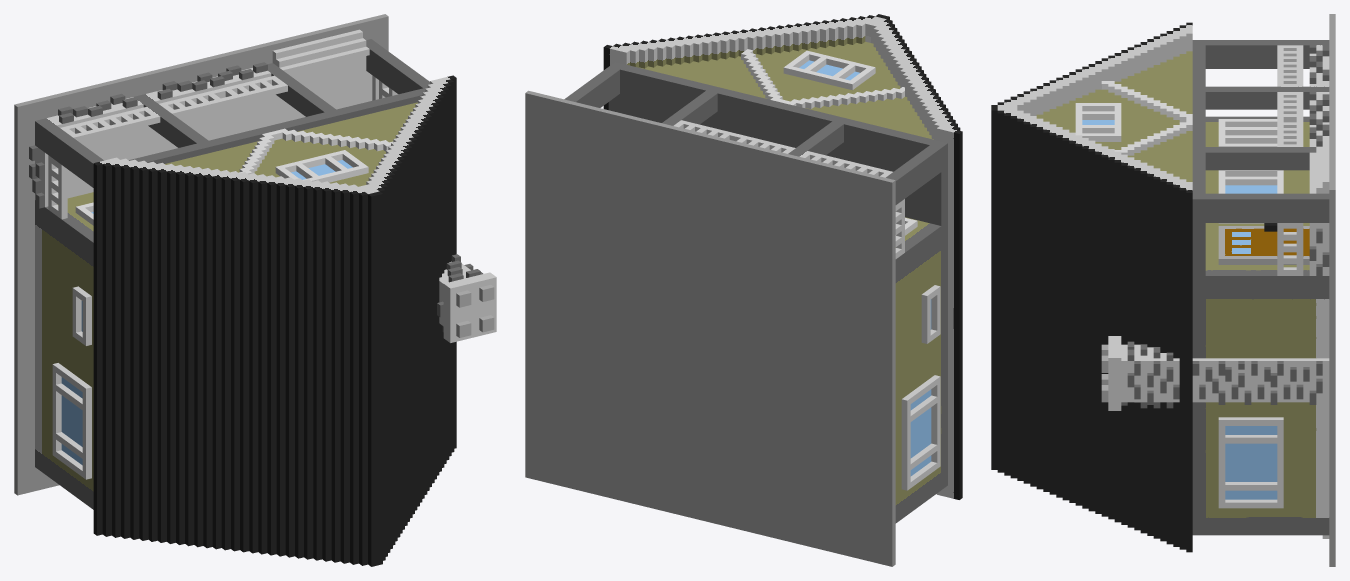
Rendered from house.obj.
3 renders of one model, left to right at view 1: azimuth 30°, elevation 25°; view 2: azimuth 150°, elevation 25°; view 3: azimuth 270°, elevation 25°, orthographic. The views are drawn at different scales.
Visible parts, largest first — view 1: Model; view 2: Model; view 3: Model.
Part boxes in pixels (x1=…): Model: x1=14, y1=14, x2=496, y2=566; Model: x1=525, y1=14, x2=962, y2=566; Model: x1=991, y1=14, x2=1335, y2=566.
Bounding box in the file's own units: 6.4 × 6.4 × 5.3.
